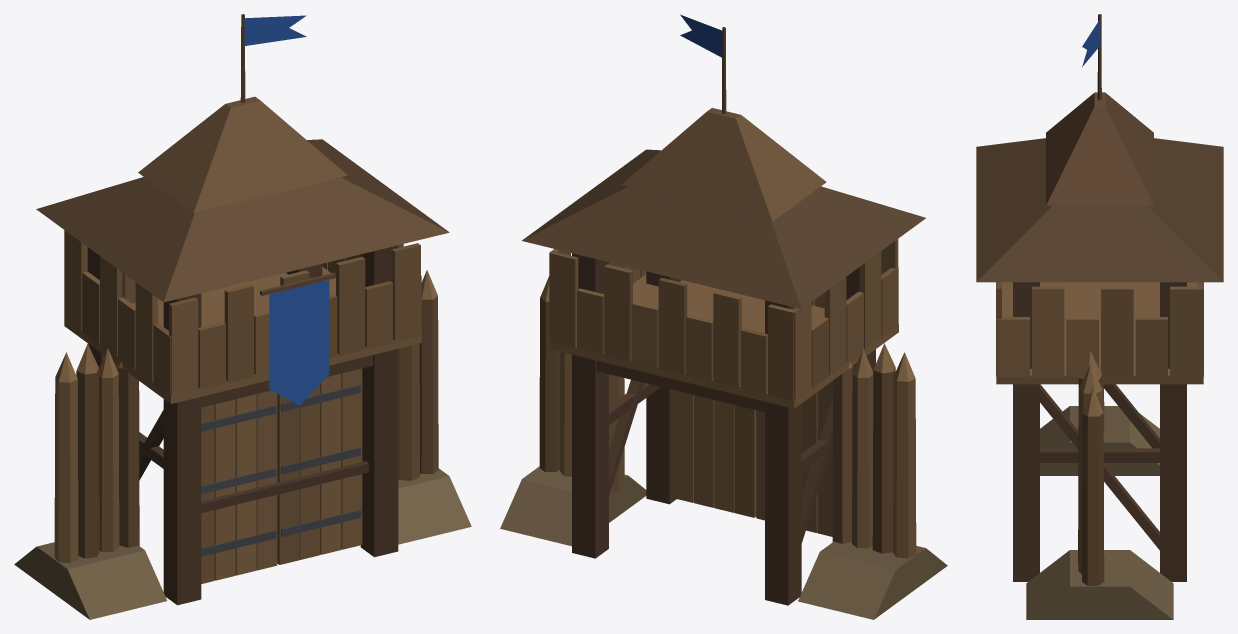
The model's file is gate.glb.
The picture shows the model from 3 angles, left to right: view 1: azimuth 30°, elevation 25°; view 2: azimuth 150°, elevation 25°; view 3: azimuth 270°, elevation 25°; orthographic projection. The views are drawn at different scales.
Parts seen in each view (by area): view 1: gate; view 2: gate; view 3: gate.
Part boxes in pixels (left/top/right/bottom): gate: left=14, top=14, right=471, bottom=619; gate: left=500, top=14, right=947, bottom=619; gate: left=976, top=14, right=1223, bottom=619.
Bounding box in the file's own units: 6.4 × 8.5 × 3.7.
